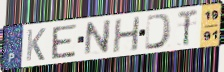D: (144, 13, 174, 52)
E: (51, 23, 78, 61)
H: (111, 15, 142, 54)
K: (25, 27, 48, 63)
N: (82, 19, 113, 58)
T: (176, 8, 199, 48)
